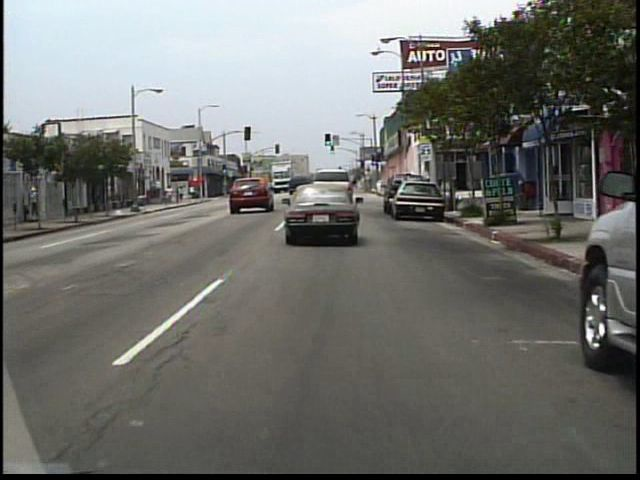person: (30, 184, 41, 221), (167, 185, 175, 205), (176, 186, 181, 204)
